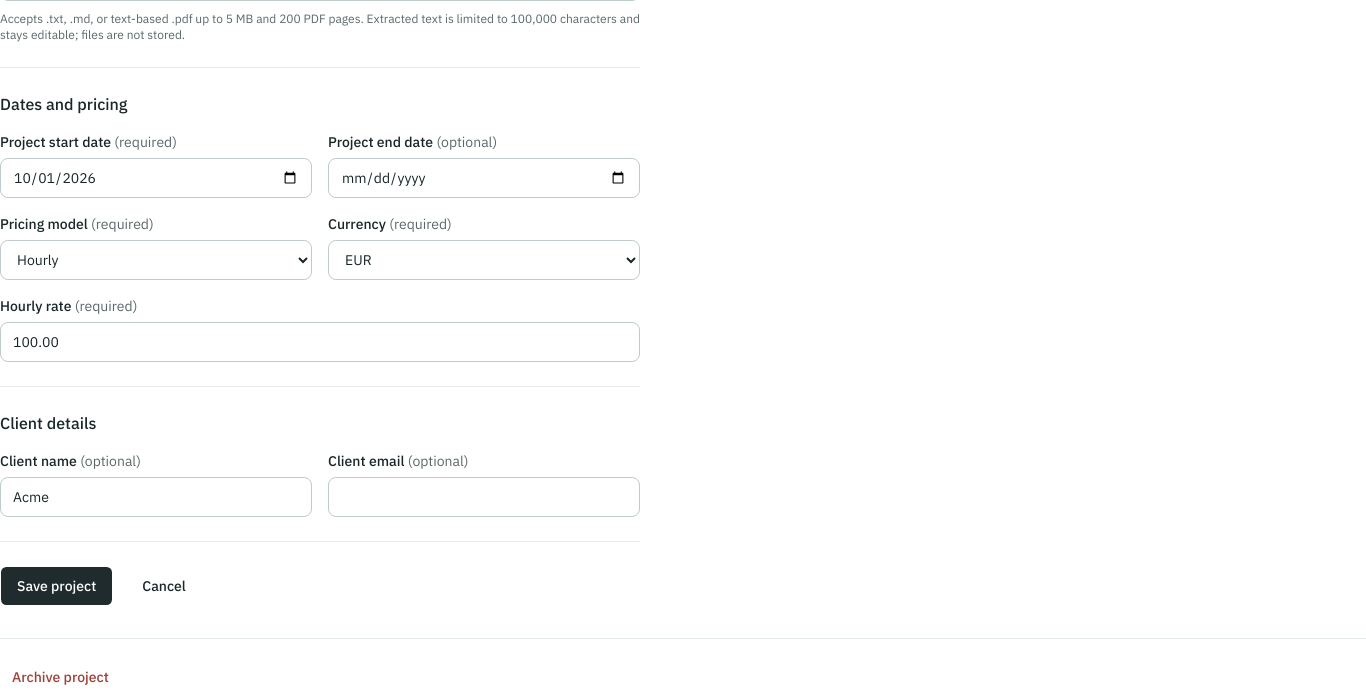
Scenario: offers deletion from the edit form in en
(page scrolled)
expect the field named "clientName" holds "Acme": met, box [0,477,312,517]
Click the button "Archive project" at (60, 677), box [0,659,121,694]
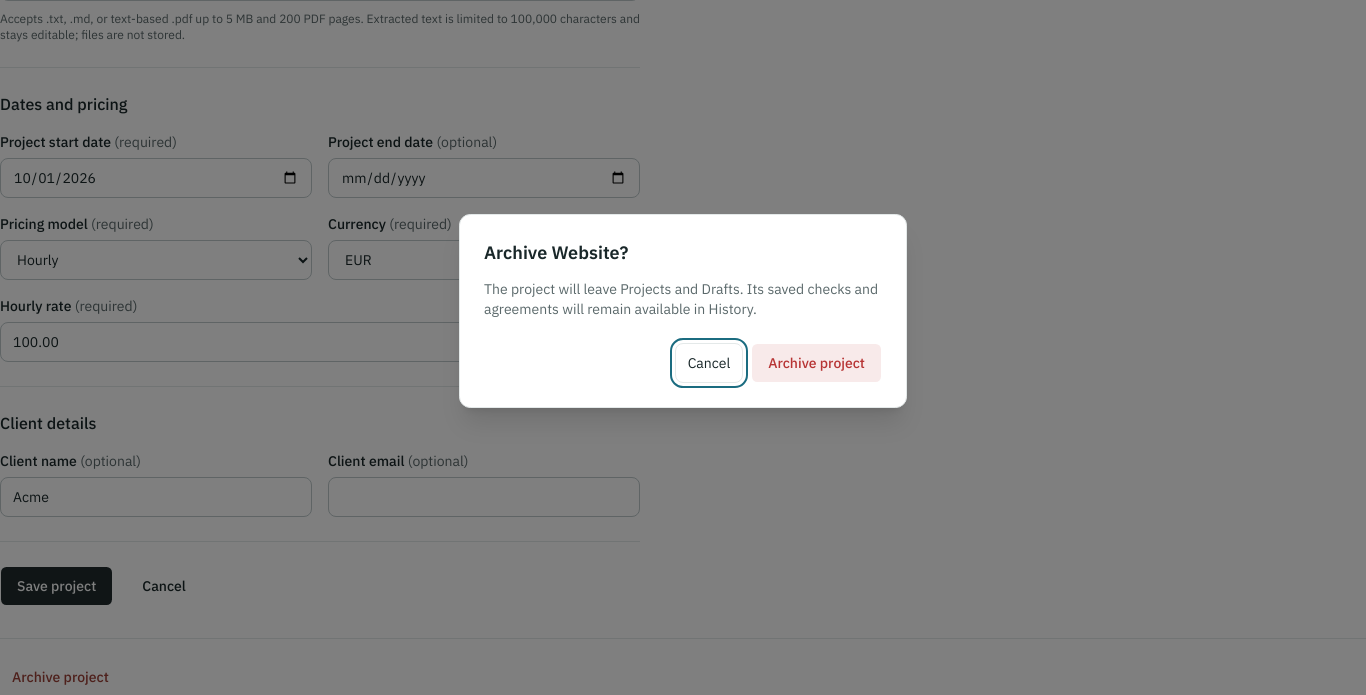
expect the dialog is shown: met, box [459,214,907,408]
